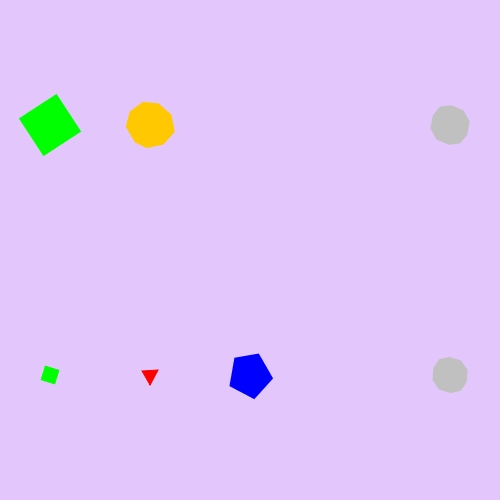decagon: (426, 103, 475, 148), (427, 354, 473, 396)
nonagon: (122, 99, 178, 152)
pentagon: (225, 350, 276, 401)
quadrilateral: (16, 91, 85, 160), (35, 360, 65, 390)
triangle: (138, 362, 163, 388)
